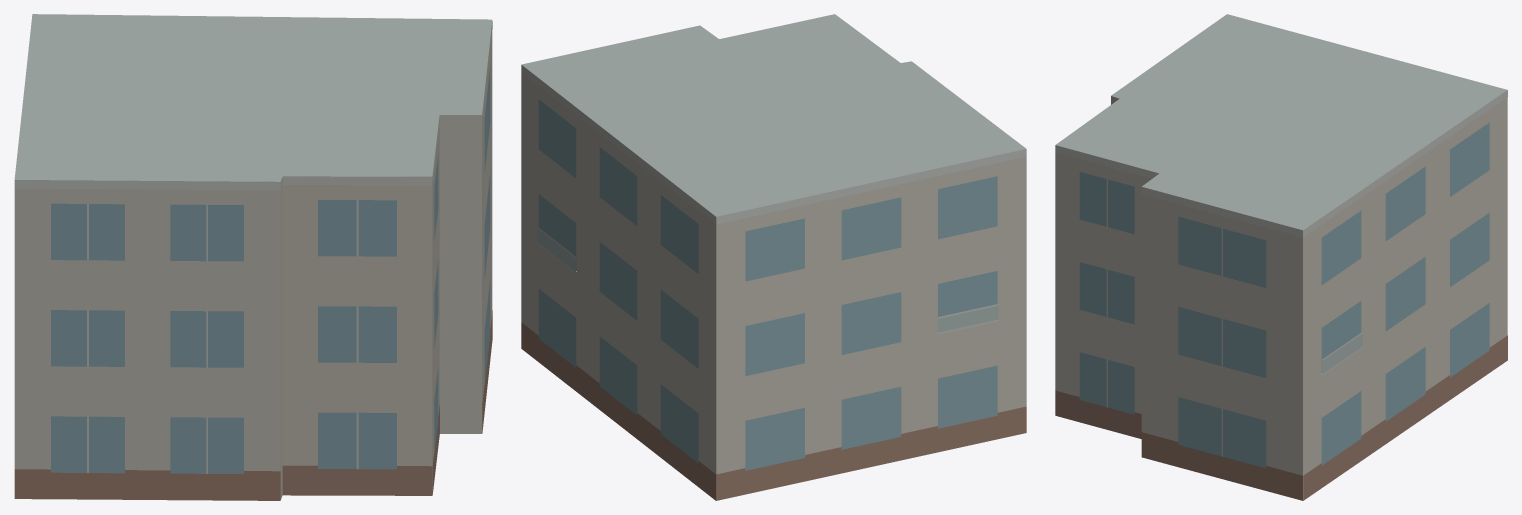
The model's file is survey-upis-32937991.glb.
3 views of the same model, side by side, from view 1: azimuth 30°, elevation 25°; view 2: azimuth 150°, elevation 25°; view 3: azimuth 270°, elevation 25° (orthographic). The views are drawn at different scales.
Visible parts, largest first — view 1: survey-upis-32937991.tmp; view 2: survey-upis-32937991.tmp; view 3: survey-upis-32937991.tmp.
Part boxes in pixels (x1=…): survey-upis-32937991.tmp: x1=14, y1=14, x2=492, y2=500; survey-upis-32937991.tmp: x1=521, y1=14, x2=1026, y2=500; survey-upis-32937991.tmp: x1=1055, y1=14, x2=1507, y2=500.
Bounding box in the file's own units: 15.44 × 9 × 13.65.
